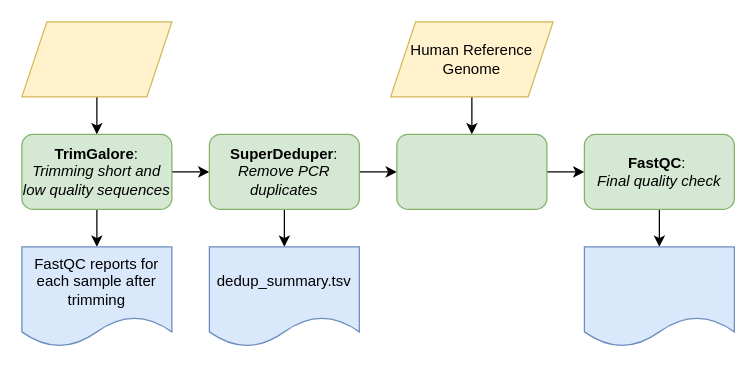
This 756x369 diagram has some shape labels left out. Each missing label, with the centre of its shape:
BWA : Remove sequences that map to host: point 471,171
FastQC reports for each sample after subsequent analysis: point 658,296
Raw Data Files: point 96,59
